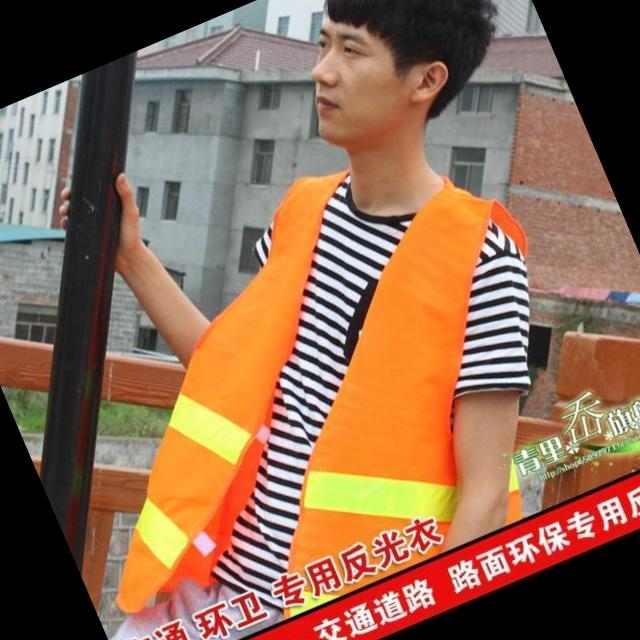safety_vest: (26, 93, 634, 630)
